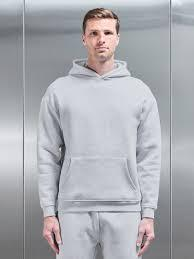hoodie: (35, 56, 163, 219)
